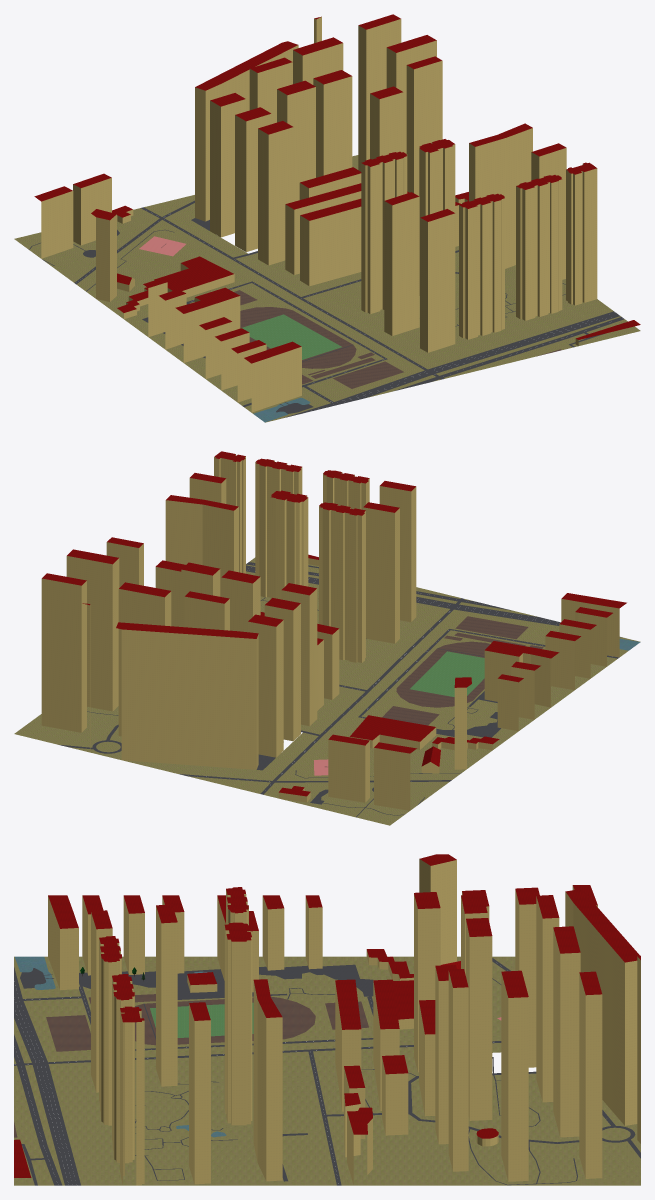
File: binjiang-test-500m.glb
3 views of the same model, one above another, from view 1: azimuth 30°, elevation 25°; view 2: azimuth 150°, elevation 25°; view 3: azimuth 270°, elevation 25° (orthographic). The views are drawn at different scales.
Parts seen in each view (by area): view 1: SurfaceArea w-1 (×3), Building w627101893, Building w627101894, Building w627101889, Building w627101895, Building w627101896, Building w627101892, Building w522150748, Building w522150738, Building w627101891, Building w522150734, Building w522150751 (+31 smaller); view 2: Building w522150734, SurfaceArea w-1 (×3), Building w522150743, Building w627101896, Building w522150745, Building w627101892, Building w627101889, Building w627101897, Building w522150736, Building w627101893, Building w522150737, Building w627101895 (+33 smaller); view 3: SurfaceArea w-1 (×4), SurfaceArea w522150763, Building w522150734, Building w627101897, Building w522150745, Building w522150744, Building w627101892, Building w522150739, Building w522150743, Road 滨和路 (×3), Building w522150751, Building w627101889 (+39 smaller).
Part boxes in pixels (x1,y1,x2,y2): SurfaceArea w-1 (×3): [67, 195, 640, 422]; Building w627101893: [516, 175, 562, 320]; Building w627101894: [459, 193, 504, 339]; Building w627101889: [384, 192, 419, 335]; Building w627101895: [420, 209, 455, 352]; Building w627101896: [361, 151, 407, 313]; Building w627101892: [469, 123, 532, 268]; Building w522150748: [300, 198, 361, 286]; Building w522150738: [258, 121, 293, 265]; Building w627101891: [566, 162, 597, 305]; Building w522150734: [195, 41, 298, 221]; Building w522150751: [406, 56, 442, 195]; Building w522150734: [116, 622, 258, 769]; SurfaceArea w-1 (×3): [14, 590, 640, 796]; Building w522150743: [41, 573, 86, 732]; Building w627101896: [319, 502, 365, 662]; Building w522150745: [66, 549, 119, 711]; Building w627101892: [165, 495, 238, 596]; Building w627101889: [363, 502, 399, 643]; Building w627101897: [270, 490, 308, 599]; Building w522150736: [248, 614, 283, 757]; Building w627101893: [255, 458, 302, 597]; Building w522150737: [264, 598, 300, 741]; Building w627101895: [379, 481, 416, 622]; SurfaceArea w-1 (×4): [14, 956, 640, 1185]; SurfaceArea w522150763: [334, 1056, 640, 1185]; Building w522150734: [565, 889, 639, 1125]; Building w627101897: [224, 922, 252, 1125]; Building w522150745: [501, 970, 528, 1181]; Building w522150744: [553, 926, 580, 1137]; Building w627101892: [253, 979, 282, 1181]; Building w522150739: [466, 918, 492, 1120]; Building w522150743: [579, 971, 602, 1178]; Road 滨和路 (×3): [14, 967, 80, 1185]; Building w522150751: [448, 969, 468, 1171]; Building w627101889: [156, 904, 177, 1086].
Size of the model in its own units: 481 by 180 by 557.
Materials: 14 (14 with a texture image).
